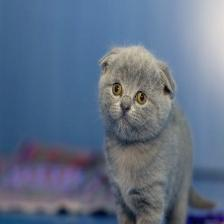kedo: (99, 45, 192, 224)
